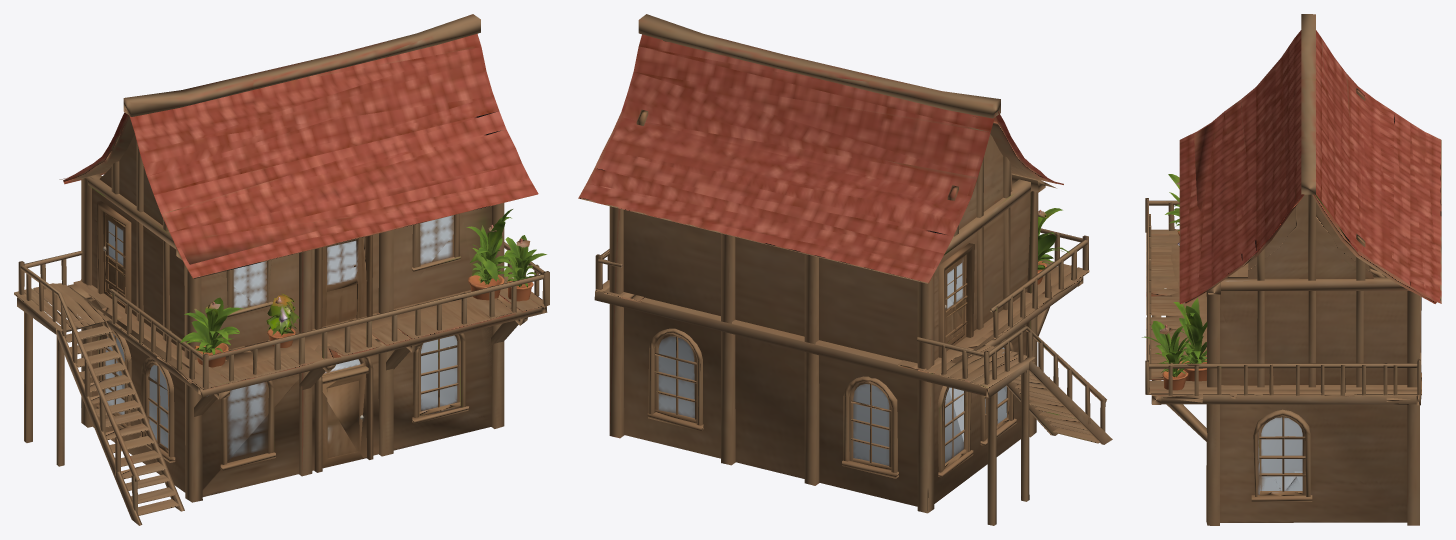
File: dorm_red.glb
3 renders of one model, left to right at view 1: azimuth 30°, elevation 25°; view 2: azimuth 150°, elevation 25°; view 3: azimuth 270°, elevation 25°, orthographic. The views are drawn at different scales.
Parts seen in each view (by area): view 1: geometry_0; view 2: geometry_0; view 3: geometry_0.
Part boxes in pixels (left/top/right/bottom): geometry_0: left=14, top=14, right=549, bottom=525; geometry_0: left=578, top=14, right=1112, bottom=525; geometry_0: left=1142, top=14, right=1441, bottom=525.
Bounding box in the file's own units: 0.9526 × 0.8306 × 0.6309.
1 material, 1 textured.
